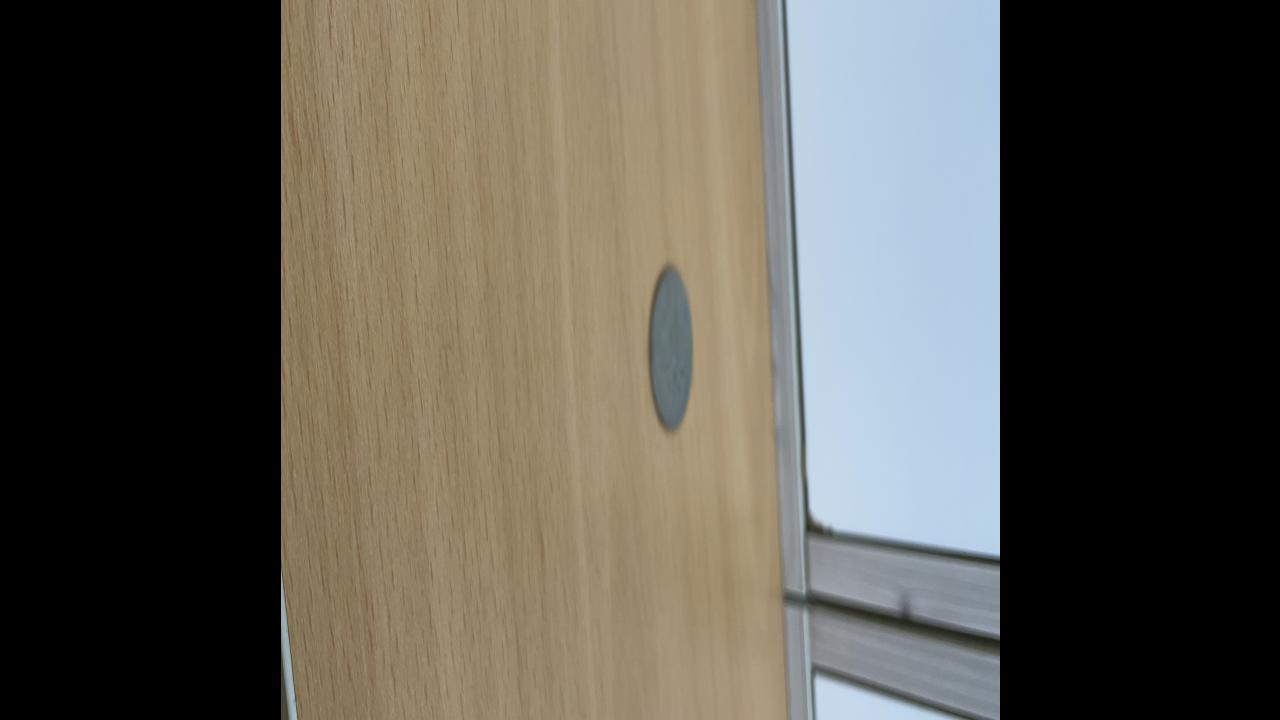coin: (646, 261, 696, 441)
